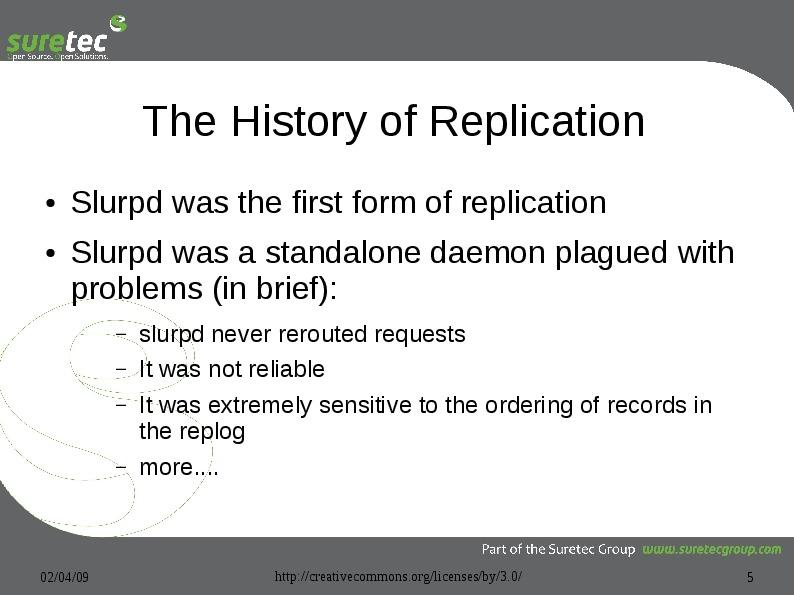paragraph: (69, 174, 749, 499)
title: (141, 92, 658, 149)
